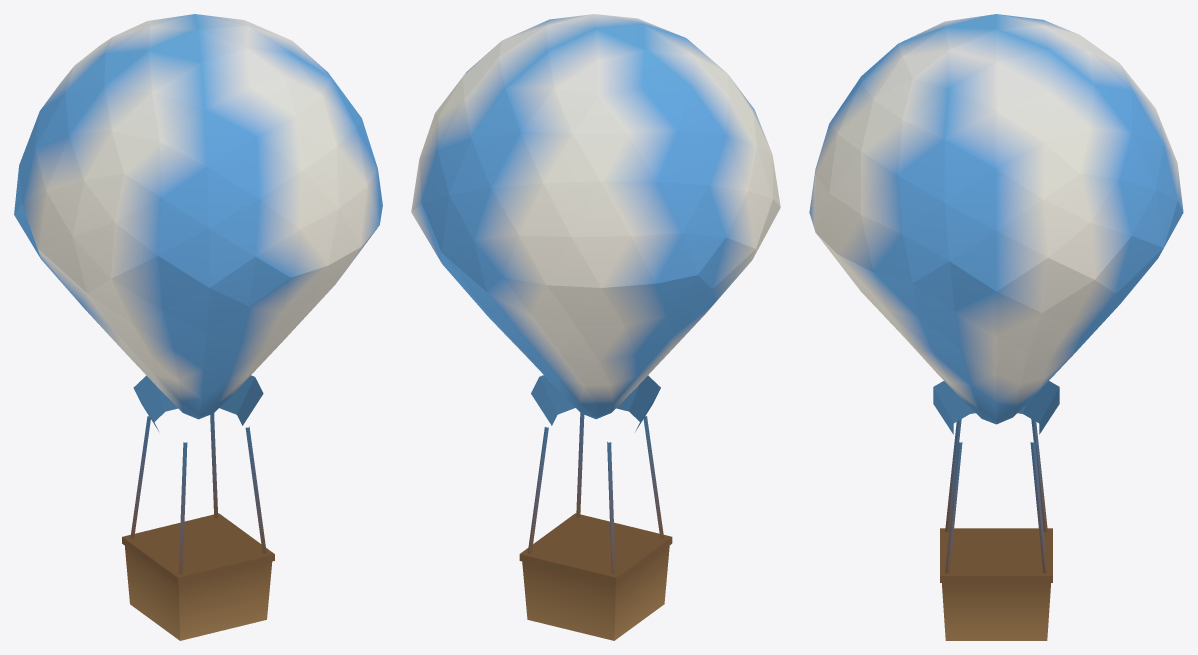
Rendered from balloon_1.glb.
The picture shows the model from 3 angles, left to right: view 1: azimuth 30°, elevation 25°; view 2: azimuth 150°, elevation 25°; view 3: azimuth 270°, elevation 25°; orthographic projection.
Parts seen in each view (by area): view 1: balloon_1; view 2: balloon_1; view 3: balloon_1.
Part boxes in pixels (x1,y1,x2,y2): balloon_1: (14, 14, 382, 640); balloon_1: (411, 14, 780, 640); balloon_1: (809, 14, 1183, 640).
Size of the model in its own units: 3.5 by 6.09 by 3.5.
